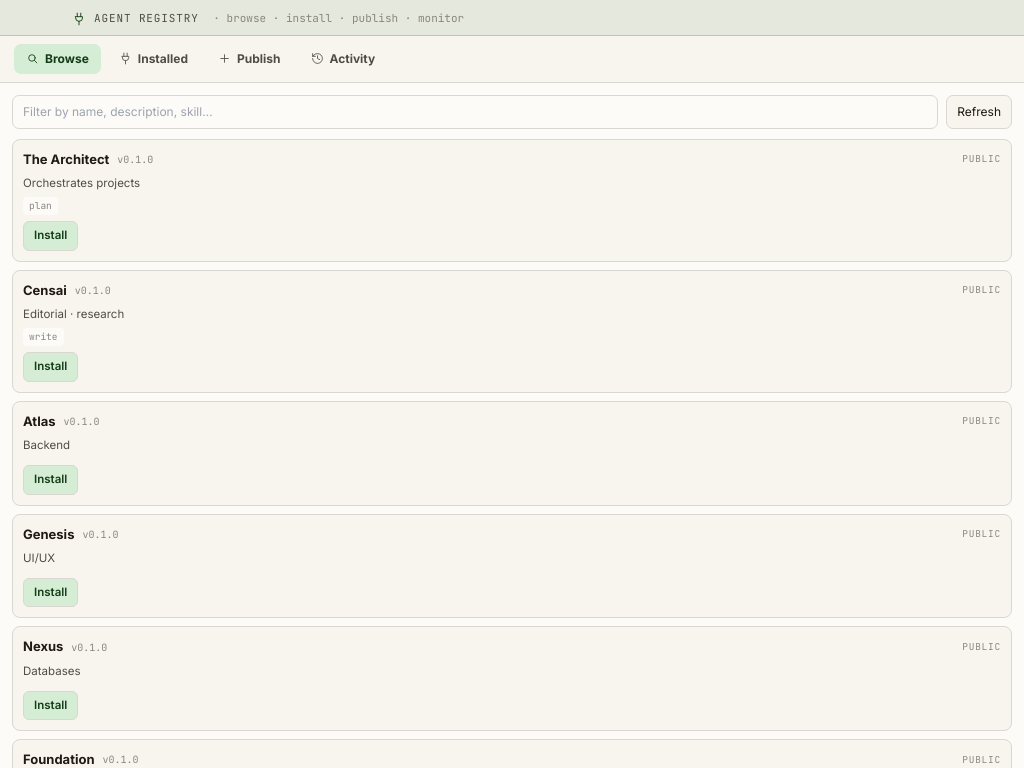
Scenario: RegistryWindow — Activity tab › handles subscribeToCard rejection without crashing
Click the button with test id "registry-install" below "plan" at (51, 236), box 23,221 -> 78,251
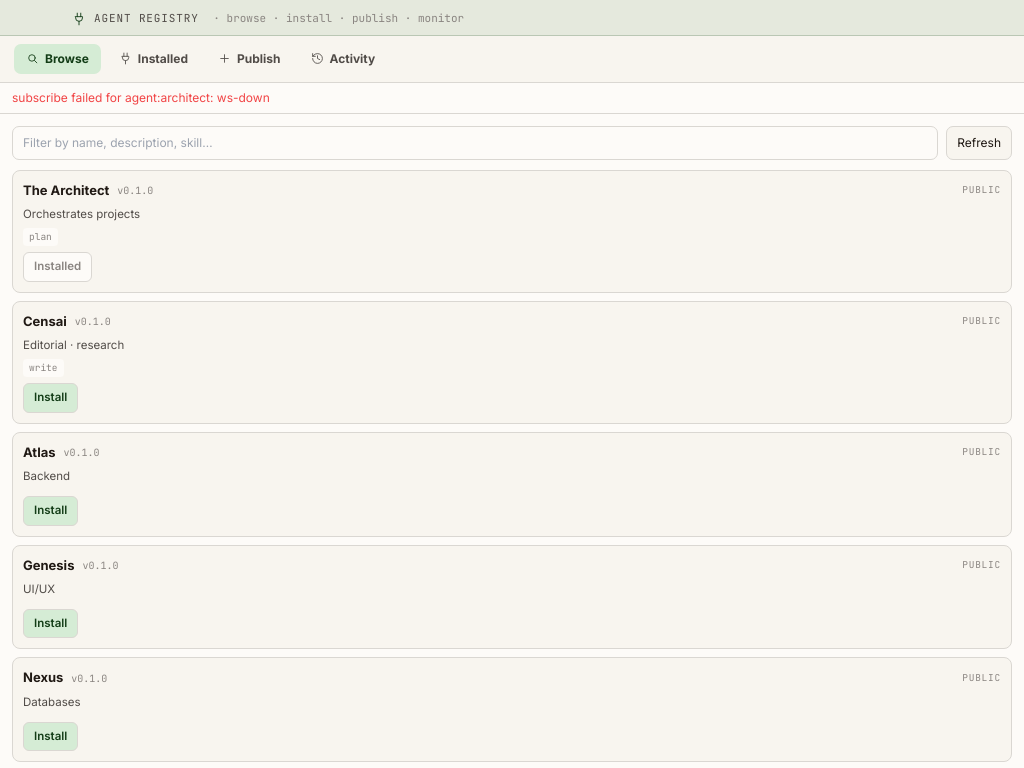
Expected: the text "subscribe failed for agent:architect: ws-down" is shown, 0,82 -> 1023,114
Expected: the text with test id "registry-error-banner" shows "ws-down", 12,90 -> 270,104
